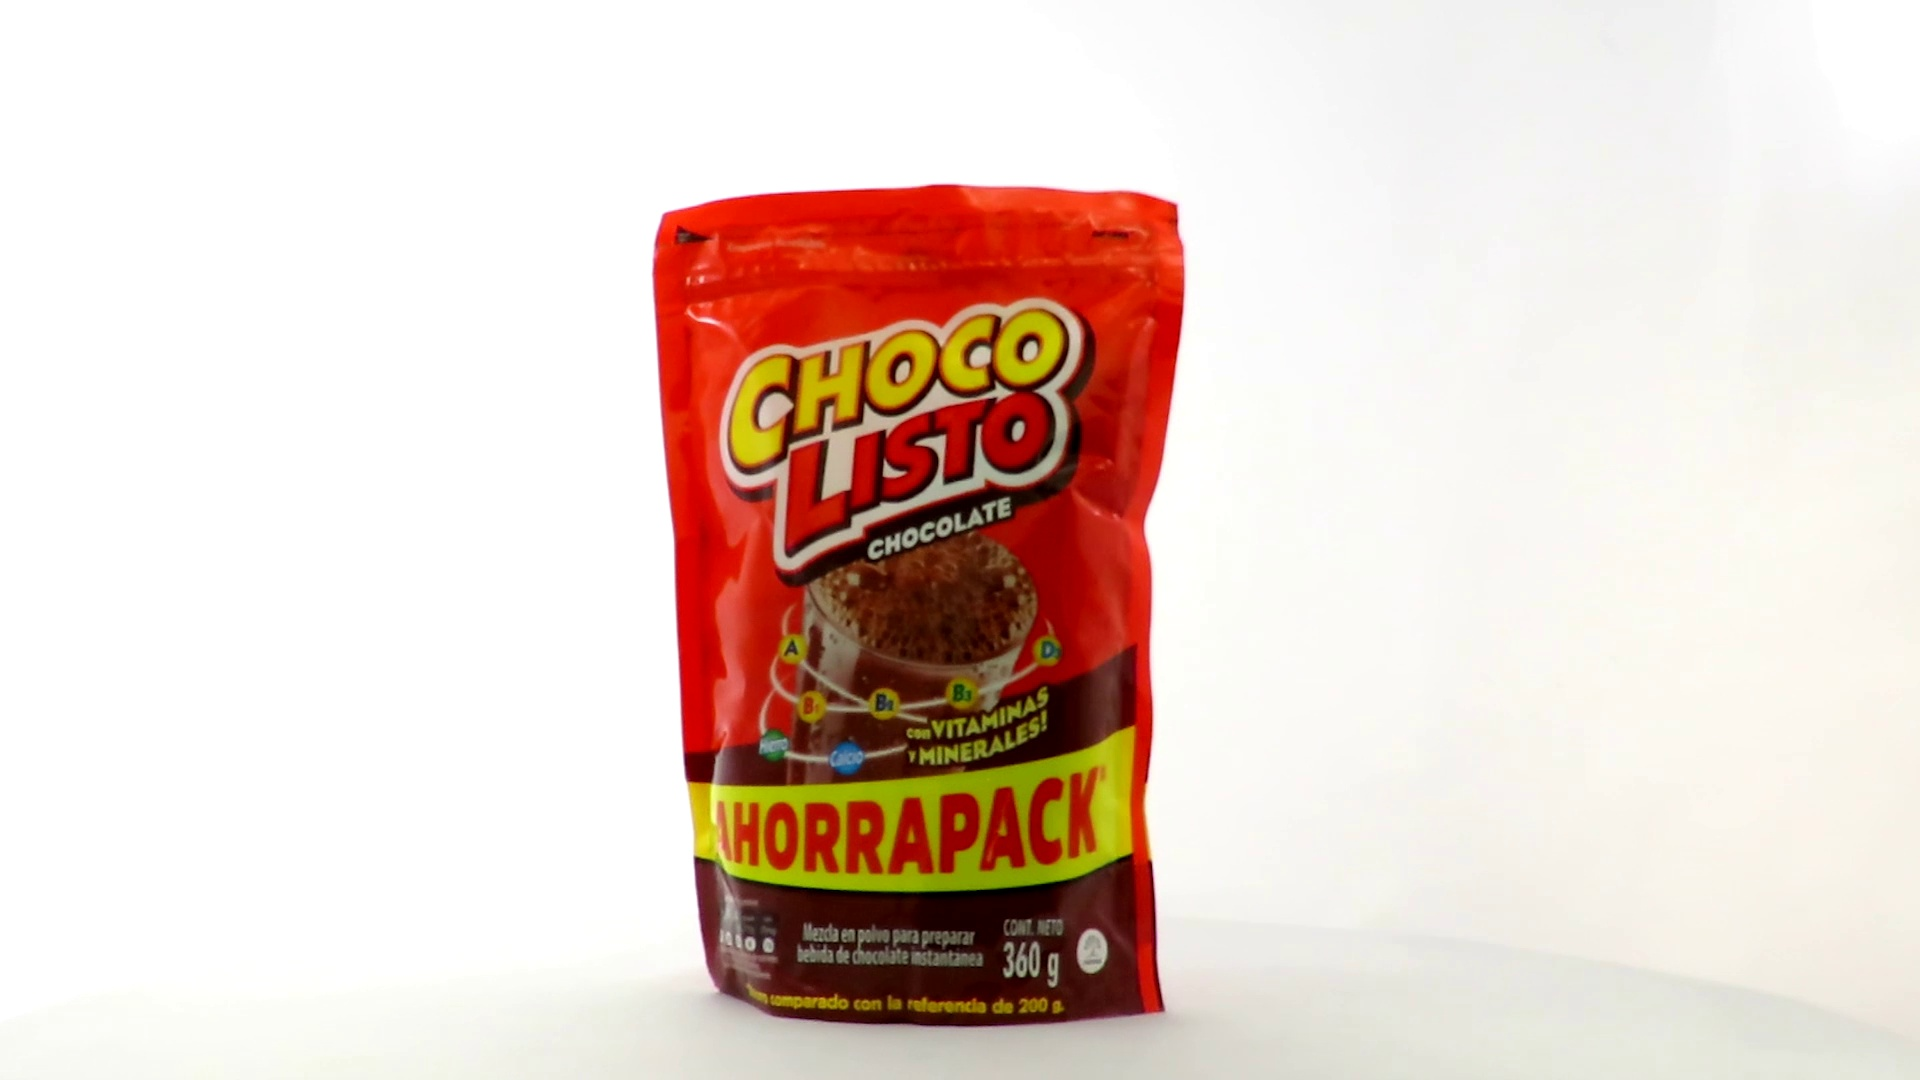COL0170103DYP36000: (647, 179, 1191, 1033)
